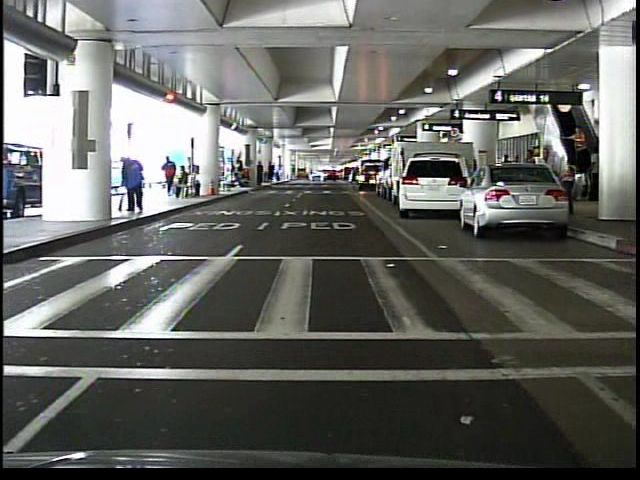person: (120, 152, 150, 216), (566, 122, 590, 171)
